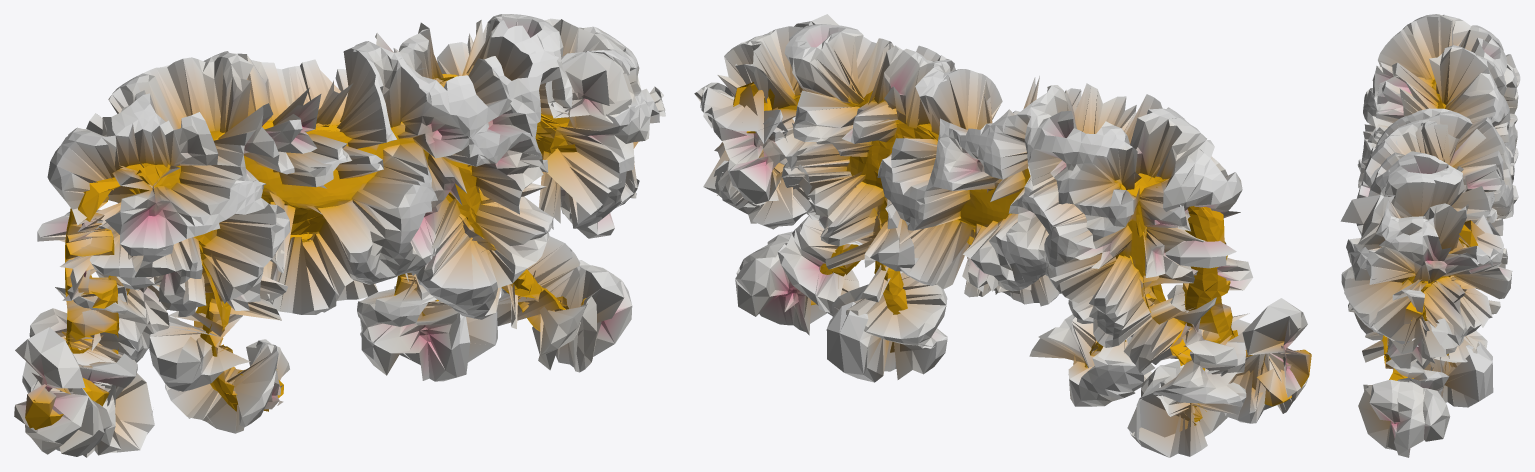
Rendered from tiger2.glb.
The picture shows the model from 3 angles, left to right: view 1: azimuth 30°, elevation 25°; view 2: azimuth 150°, elevation 25°; view 3: azimuth 270°, elevation 25°; orthographic projection. The views are drawn at different scales.
Visible parts, largest first — view 1: geo1; view 2: geo1; view 3: geo1.
Boxes of the visible parts, <box> form: geo1: <box>14,14,665,457</box>; geo1: <box>694,14,1311,457</box>; geo1: <box>1340,14,1520,457</box>.
Bounding box in the file's own units: 1.94 × 1.03 × 0.5887.
